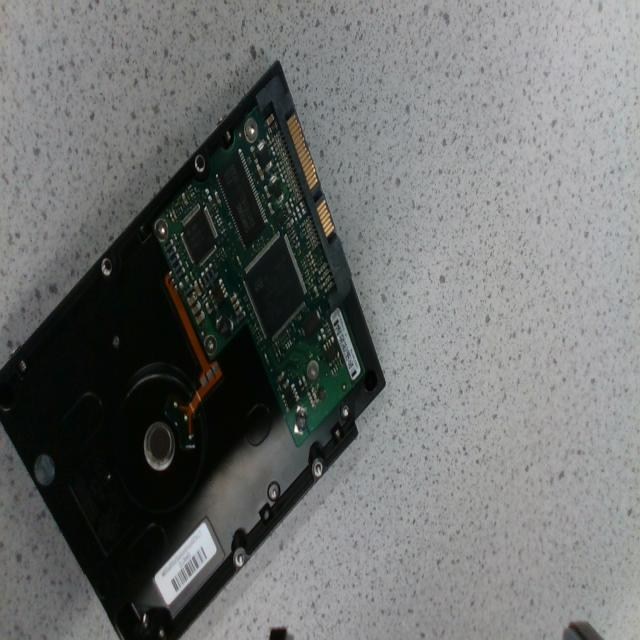case: (0, 62, 385, 639)
pcb: (154, 91, 367, 449)
screw: (244, 117, 258, 142), (154, 219, 168, 241), (204, 335, 217, 356), (307, 360, 319, 380)
